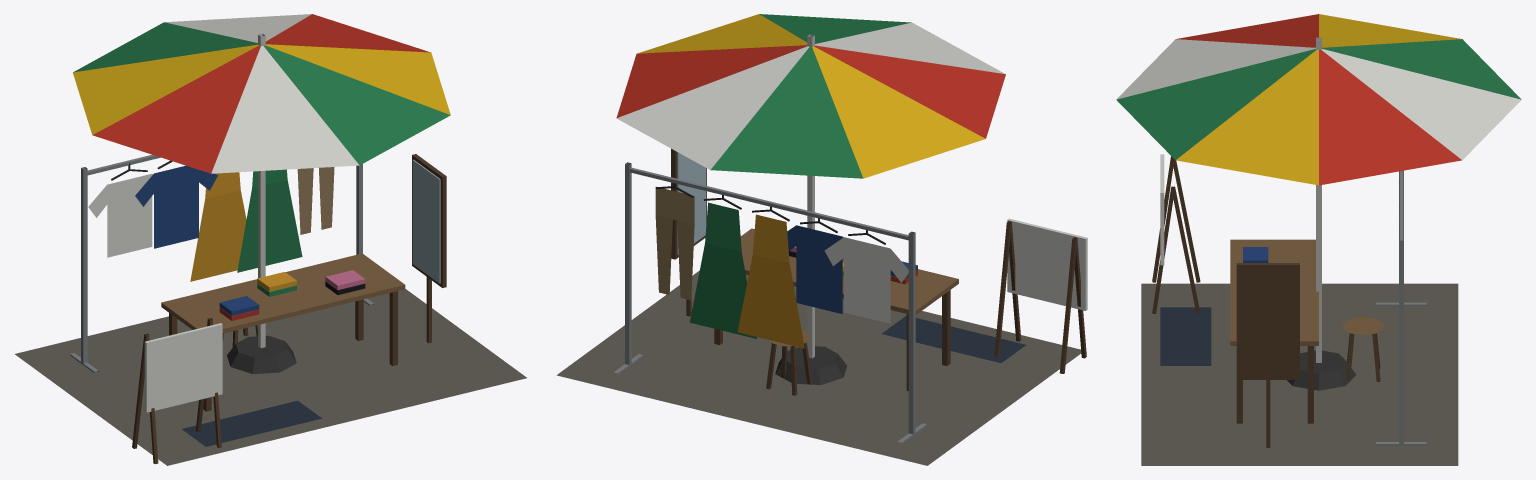
Rendered from ns_boutique_lod1.glb.
3 renders of one model, left to right at view 1: azimuth 30°, elevation 25°; view 2: azimuth 150°, elevation 25°; view 3: azimuth 270°, elevation 25°, orthographic. The views are drawn at different scales.
Parts seen in each view (by area): view 1: ns_boutique_lod1; view 2: ns_boutique_lod1; view 3: ns_boutique_lod1.
Boxes of the visible parts, x1,y1,x2,y2 form: ns_boutique_lod1: (15,14,526,465); ns_boutique_lod1: (556,14,1087,465); ns_boutique_lod1: (1116,14,1521,465).
Bounding box in the file's own units: 3.51 × 2.95 × 3.2.
